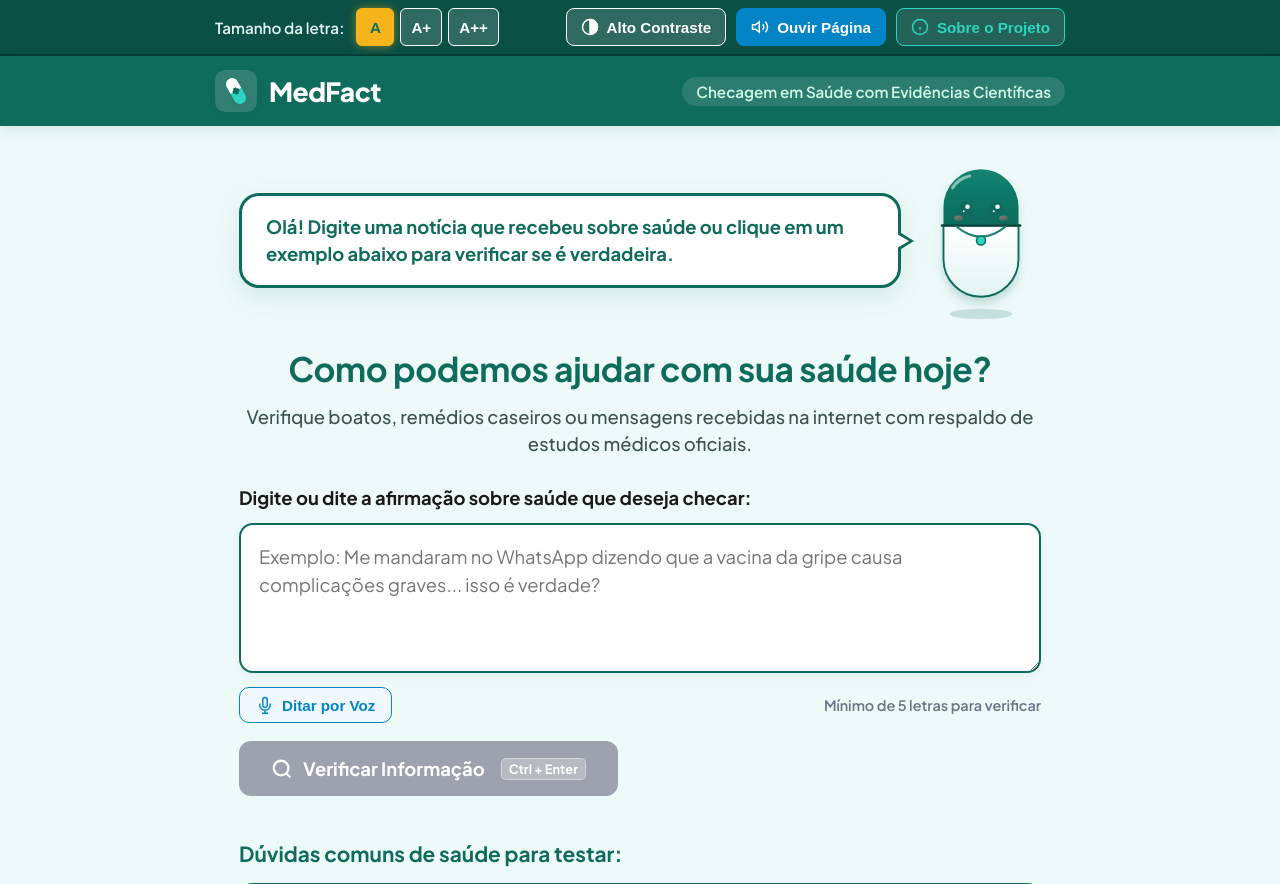
App Main Component - Testes Caixa Branca e Caixa Preta › typing text enables submit button and shows clean button
# Type 4 characters (below minimum 5)
Replace the text in the text box labelled "Digite ou dite a afirmação sobre saúde que deseja checar:" with "cura" at x=640, y=598, box x1=239 y1=523 x2=1041 y2=673
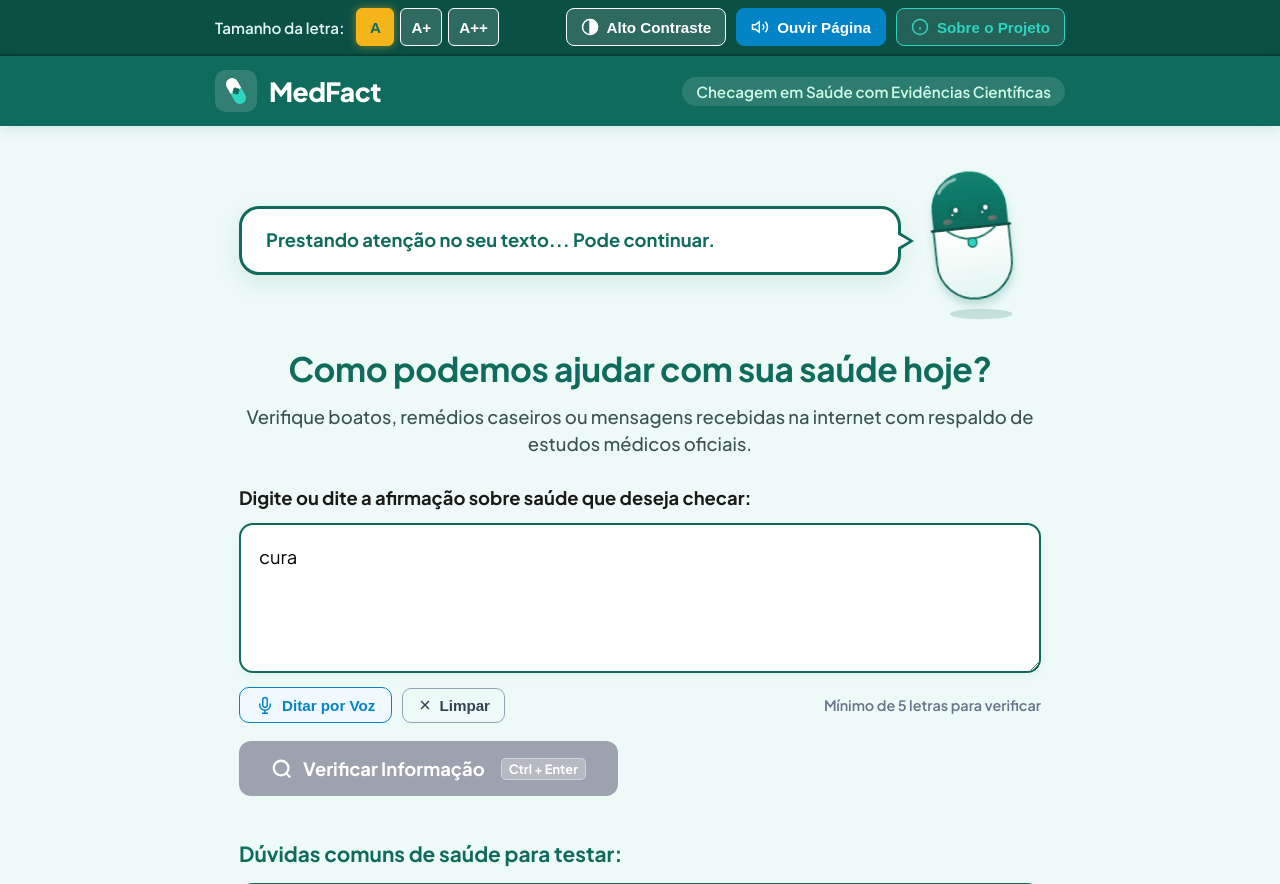
Expected: the button "Verificar Informação Ctrl + Enter" is disabled, x1=239 y1=741 x2=618 y2=796
Replace the text in the text box labelled "Digite ou dite a afirmação sobre saúde que deseja checar:" with "A vacina da gripe causa Alzheimer?" at x=640, y=598, box x1=239 y1=523 x2=1041 y2=673
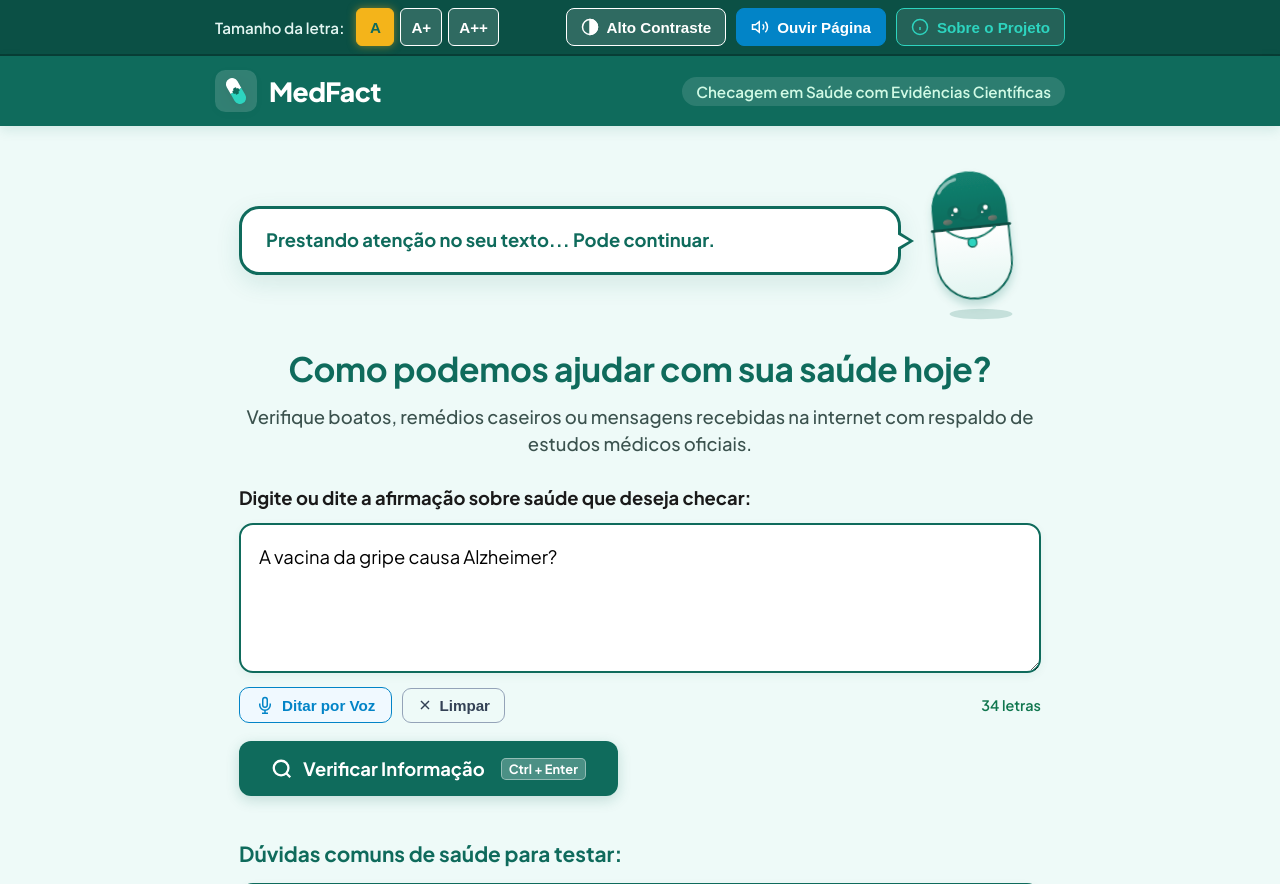
Expected: the button with aria-label "Limpar texto digitado" is shown
Expected: the button "Verificar Informação Ctrl + Enter" is enabled, x1=239 y1=741 x2=618 y2=796
# Click Limpar button
Click the button with aria-label "Limpar texto digitado" at x=454, y=705, box x1=402 y1=688 x2=505 y2=723
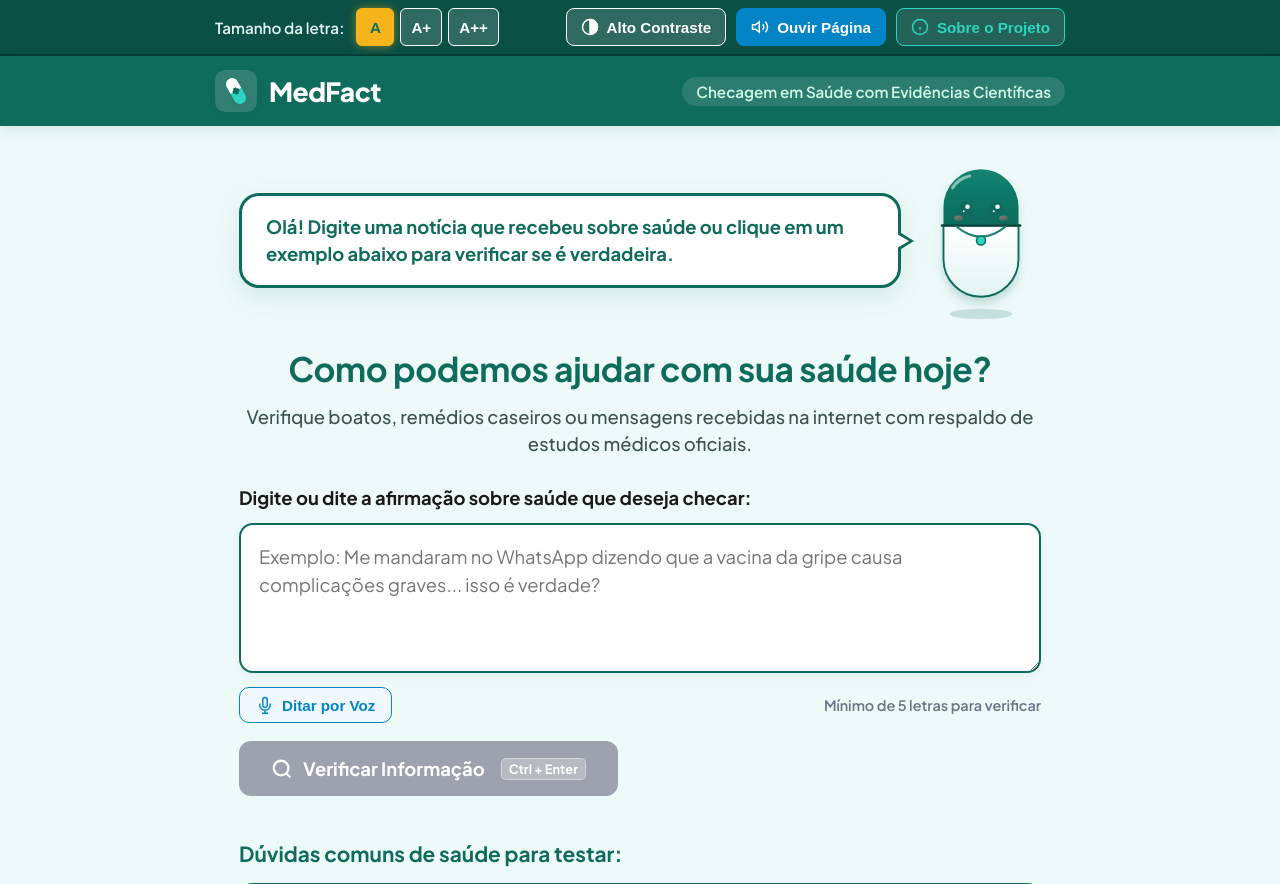
Expected: the text box labelled "Digite ou dite a afirmação sobre saúde que deseja checar:" is empty, x1=239 y1=523 x2=1041 y2=673
Expected: the button "Verificar Informação Ctrl + Enter" is disabled, x1=239 y1=741 x2=618 y2=796
